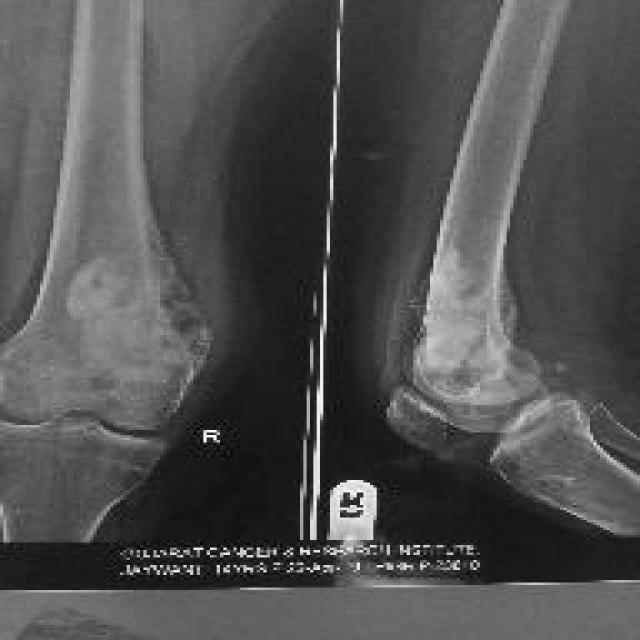bone-cancer: (67, 240, 208, 383), (409, 236, 520, 393)
